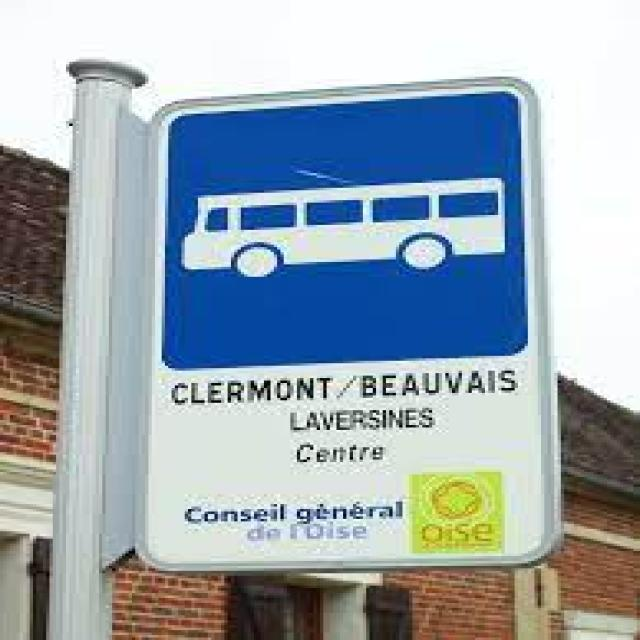ArretBus: (163, 111, 532, 365)
